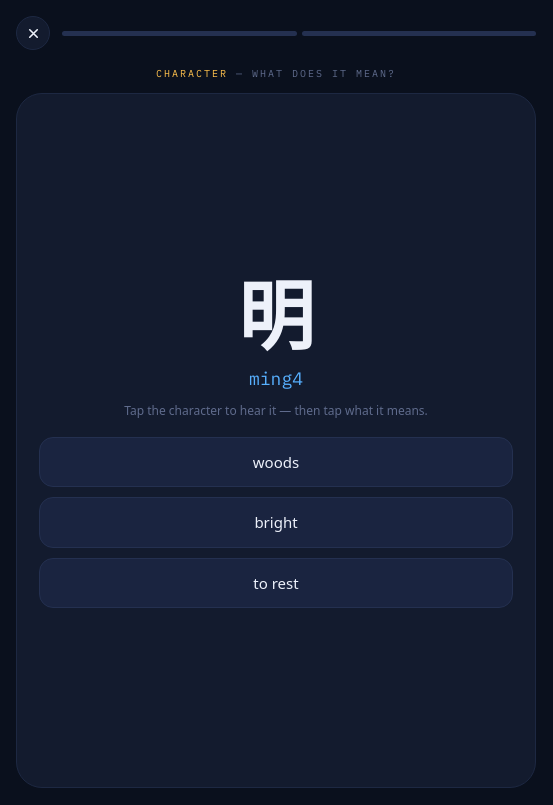
Test: SessionOverlay — quick ear drill › renders a character card and advances after the correct meaning
Expected: the button "明" is shown, x1=238 y1=273 x2=314 y2=357
Expected: the text "Character — what does it mean?" is shown, x1=156 y1=67 x2=396 y2=80
Click the button "woods".
click(276, 462)  # box x1=39 y1=436 x2=513 y2=487
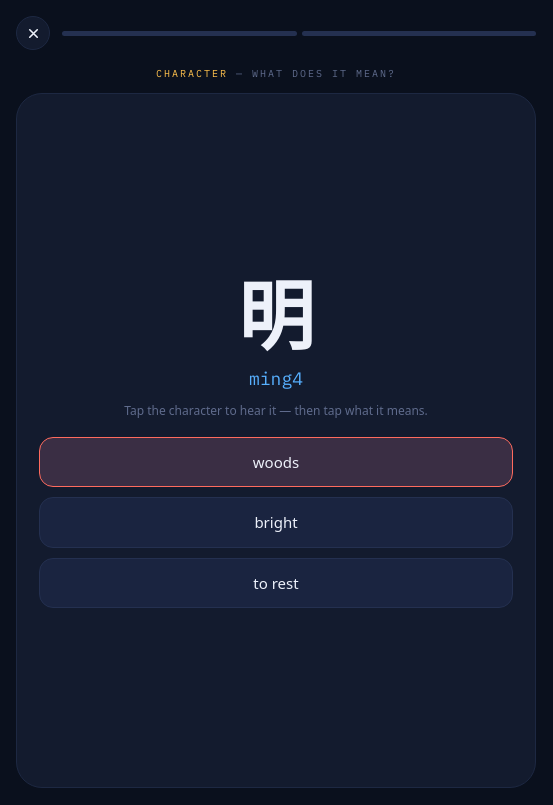
Expected: the button "明" is shown, x1=238 y1=273 x2=314 y2=357
Click the button "bright".
click(276, 522)  # box x1=39 y1=497 x2=513 y2=548
Wait 750 ms
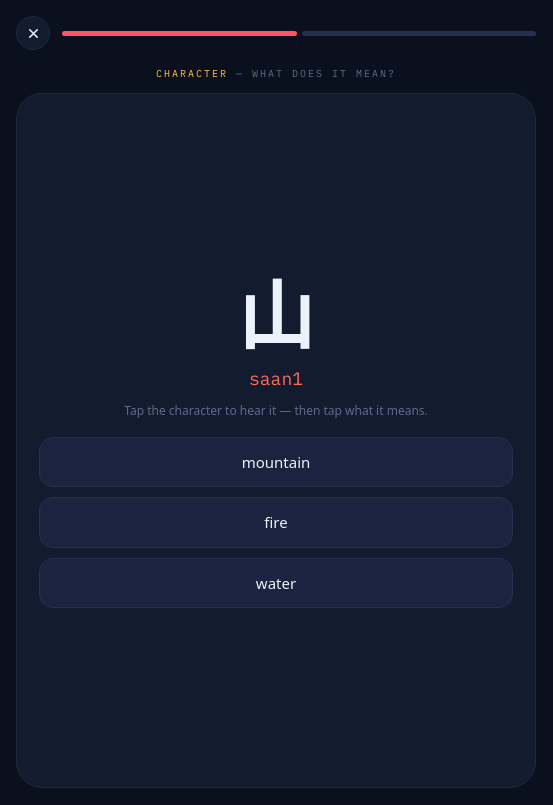
Result: the button "山" is shown at x1=238 y1=273 x2=314 y2=357
